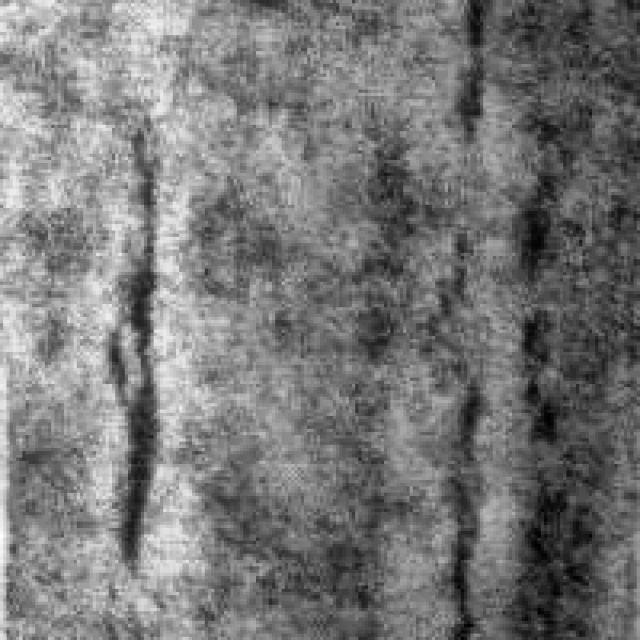Patches: (92, 124, 182, 598), (429, 374, 493, 608), (438, 0, 499, 163)
